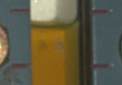border: (8, 62, 32, 71), (88, 63, 114, 71), (87, 8, 112, 15), (7, 7, 31, 14)
liquidlevel: (29, 18, 80, 31)
